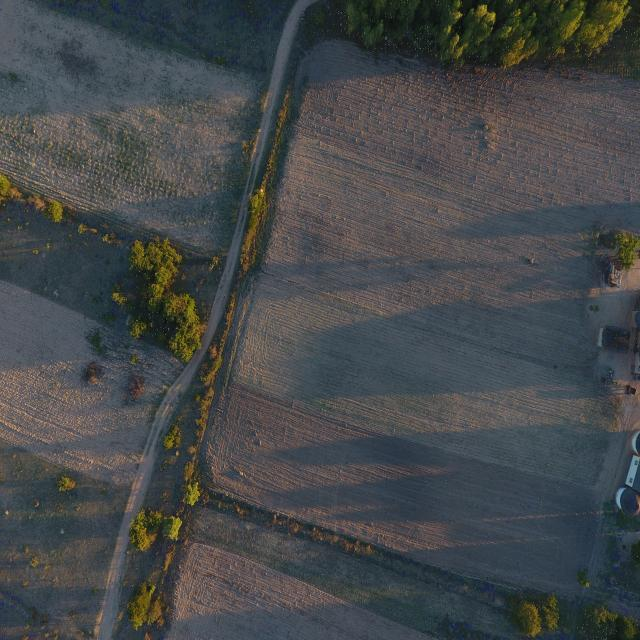boundaries: (229, 489, 497, 615)
